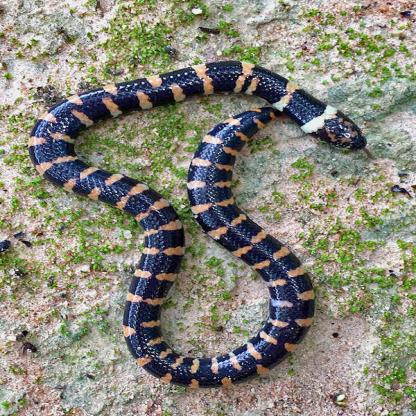Snake: (22, 58, 364, 388)
